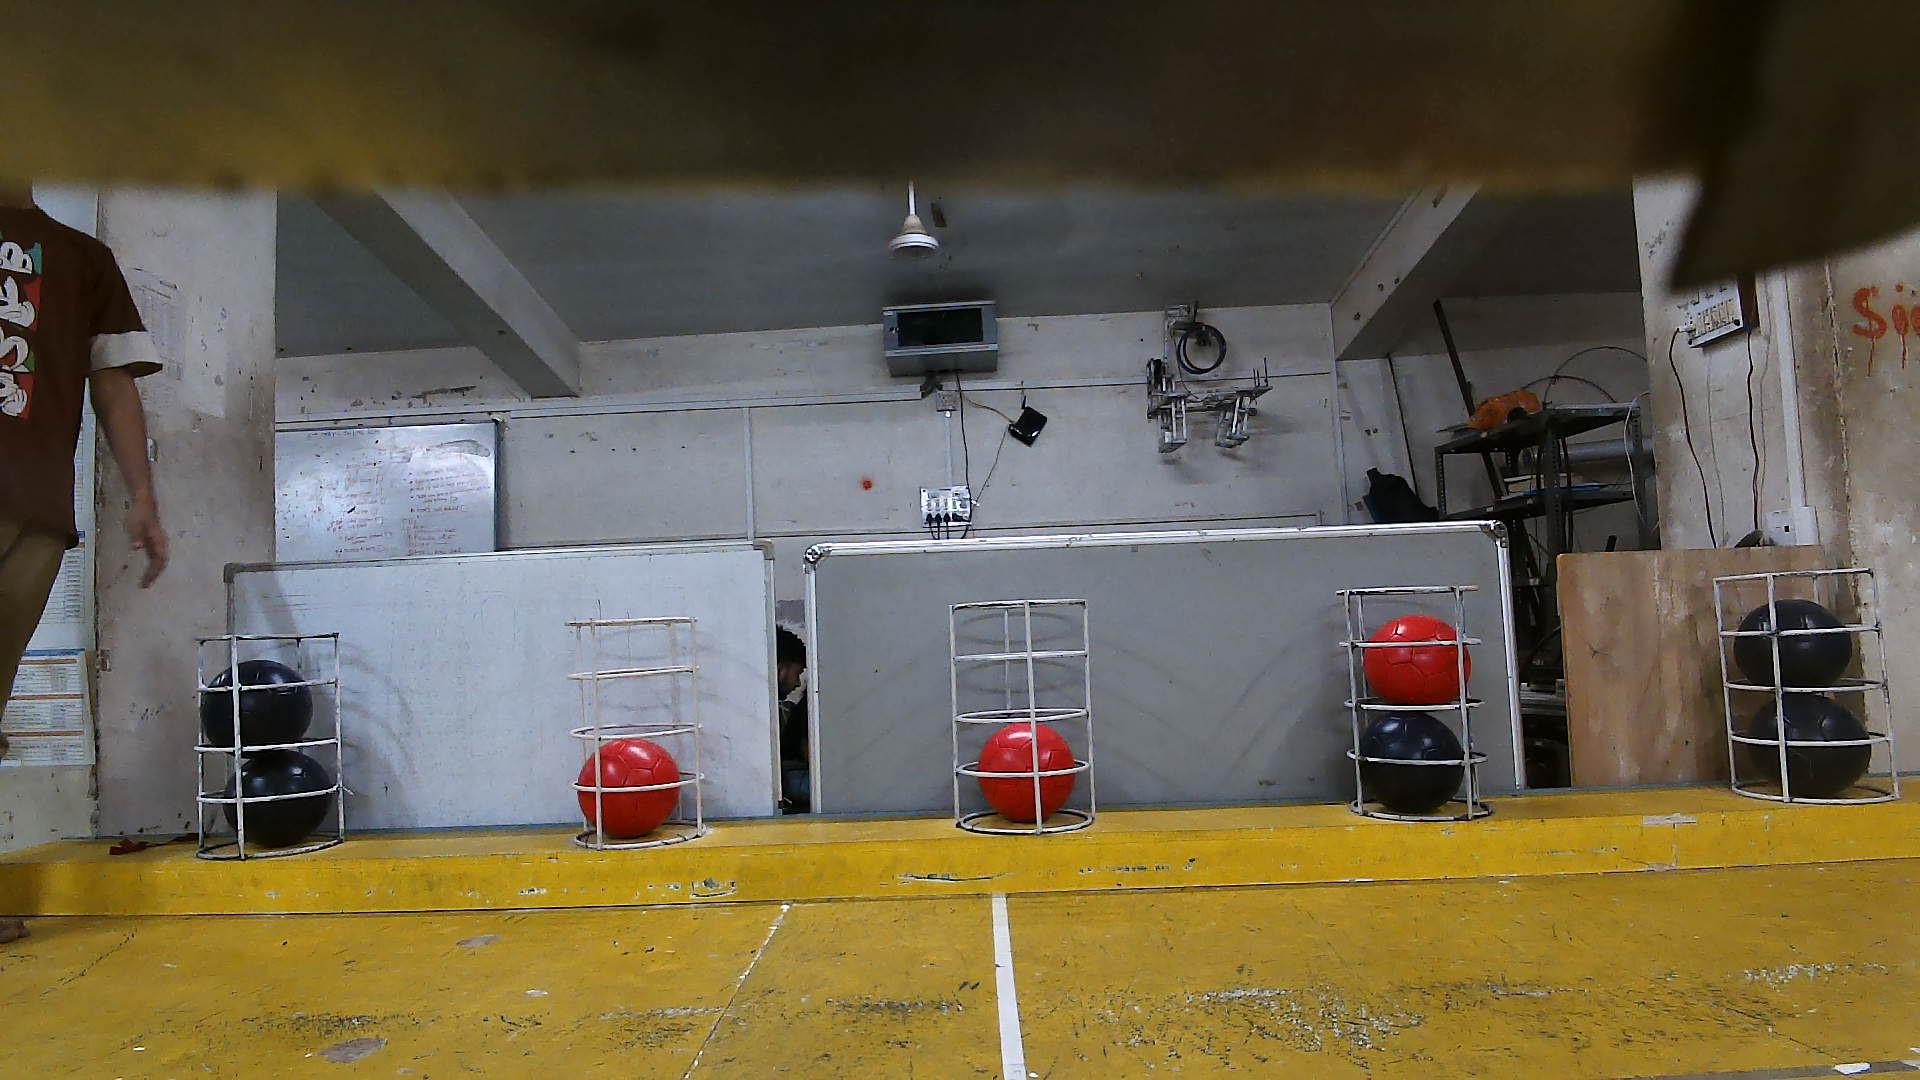dhoka: (1750, 695, 1873, 799), (1737, 599, 1854, 699), (1364, 712, 1465, 818), (203, 662, 313, 758), (224, 749, 330, 845)
laale: (1362, 615, 1470, 704), (978, 724, 1076, 822), (578, 741, 678, 835)
